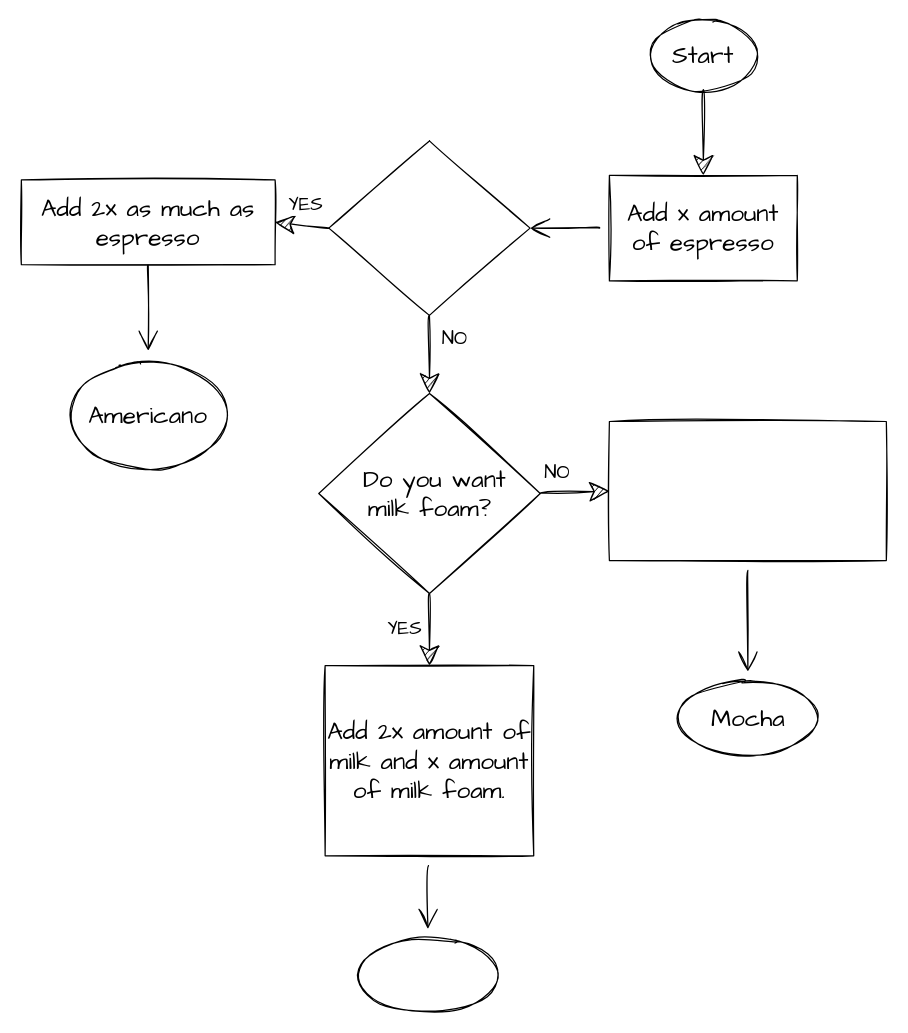
Some shapes in this 908 by 1033 pixel diagram are drawn without their labels. The shapes that lost their labels are listed below. From the top down, each one's centre as x and y in pixels, then its label:
the point at 429,227: Do you want water?
the point at 747,490: Add x amount of milk, x amount of chocolate and x amount of cream
the point at 427,975: Latte
